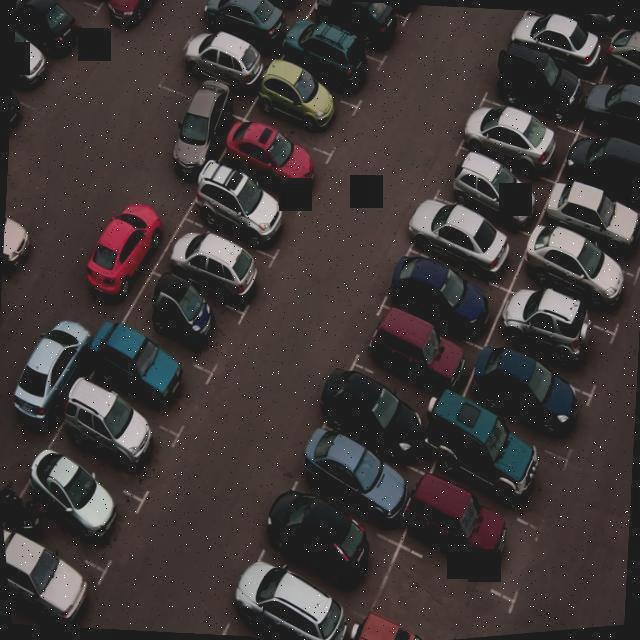space-empty: (382, 535, 503, 640)
space-occupied: (403, 460, 533, 606), (264, 498, 401, 627), (20, 441, 142, 566), (89, 318, 203, 447), (57, 377, 170, 507), (433, 408, 570, 509), (361, 299, 480, 410), (318, 367, 435, 473), (300, 422, 411, 531), (391, 250, 503, 353), (498, 281, 616, 378), (467, 350, 586, 446), (223, 106, 329, 213), (199, 152, 296, 265), (413, 188, 520, 289), (512, 221, 633, 310), (1, 531, 110, 629), (171, 216, 271, 319), (137, 269, 234, 372), (455, 95, 570, 175), (436, 143, 544, 228), (256, 62, 353, 156), (281, 20, 375, 113), (230, 569, 353, 640), (483, 44, 586, 127), (165, 32, 262, 115), (499, 10, 606, 81), (544, 171, 640, 249), (568, 125, 640, 216), (310, 0, 399, 65), (198, 0, 289, 60), (579, 72, 640, 160), (227, 0, 314, 26), (533, 11, 628, 31), (342, 1, 426, 19)
